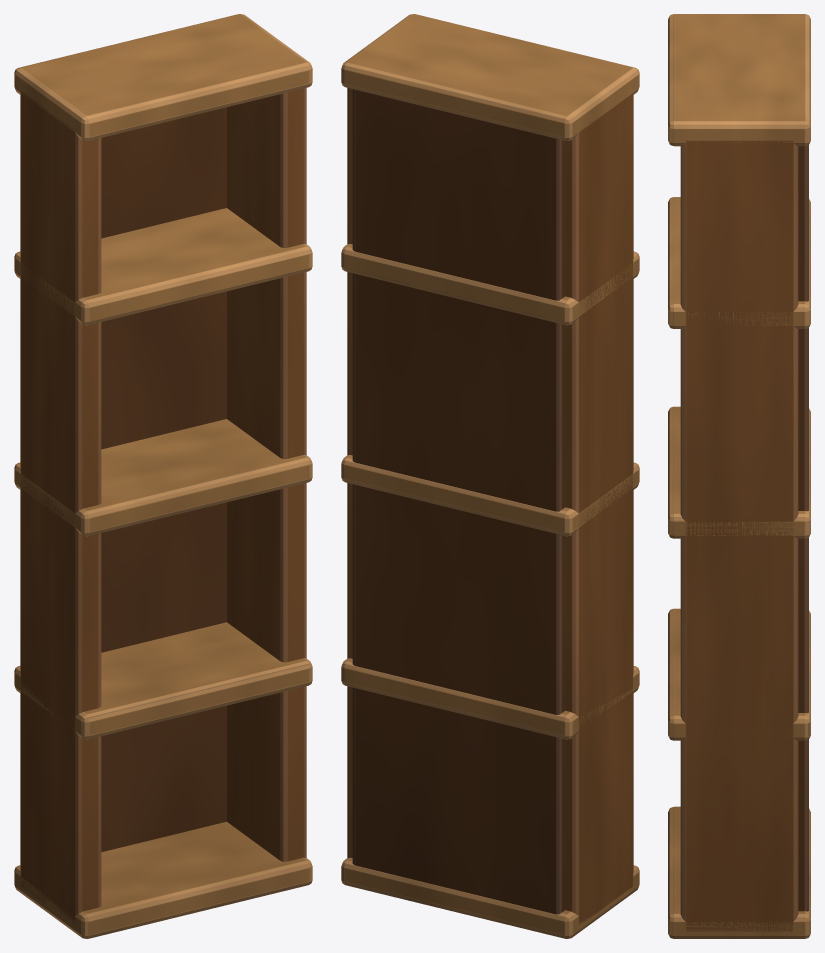
File: 20_Tall_Bookshelf.fbx
The picture shows the model from 3 angles, left to right: view 1: azimuth 30°, elevation 25°; view 2: azimuth 150°, elevation 25°; view 3: azimuth 270°, elevation 25°; orthographic projection.
Visible parts, largest first — view 1: 20_Tall_Bookshelf; view 2: 20_Tall_Bookshelf; view 3: 20_Tall_Bookshelf.
Boxes of the visible parts, x1=… form: 20_Tall_Bookshelf: x1=14, y1=14, x2=312, y2=938; 20_Tall_Bookshelf: x1=341, y1=14, x2=639, y2=938; 20_Tall_Bookshelf: x1=668, y1=14, x2=810, y2=938.
Bounding box in the file's own units: 63 × 215 × 34.
1 material, 1 textured.
